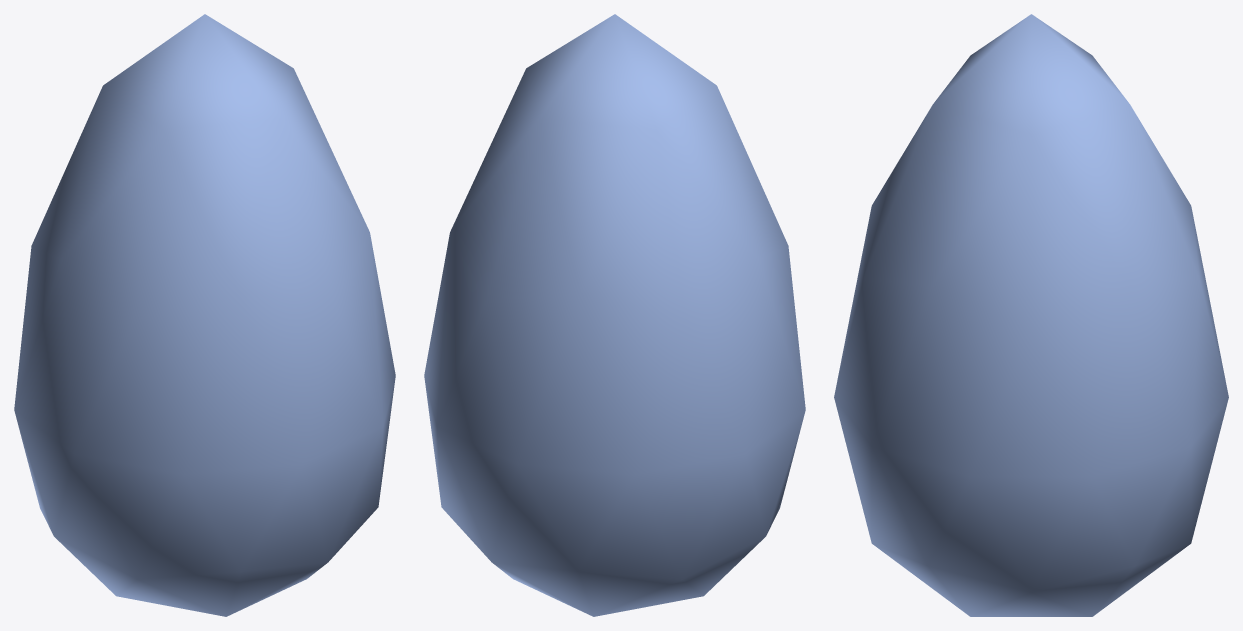
File: Raindrop_exp.glb
3 renders of one model, left to right at view 1: azimuth 30°, elevation 25°; view 2: azimuth 150°, elevation 25°; view 3: azimuth 270°, elevation 25°, orthographic.
Parts seen in each view (by area): view 1: Icosphere; view 2: Icosphere; view 3: Icosphere.
Part boxes in pixels (bbox=[...]): Icosphere: bbox=[14, 14, 395, 616]; Icosphere: bbox=[424, 14, 805, 616]; Icosphere: bbox=[834, 14, 1228, 616].
Size of the model in its own units: 1.04 by 1.81 by 1.09.
